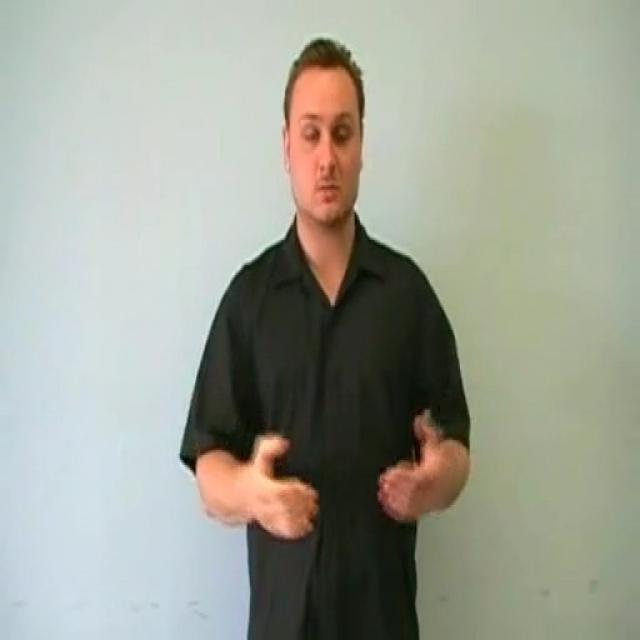what: (188, 403, 472, 543)
